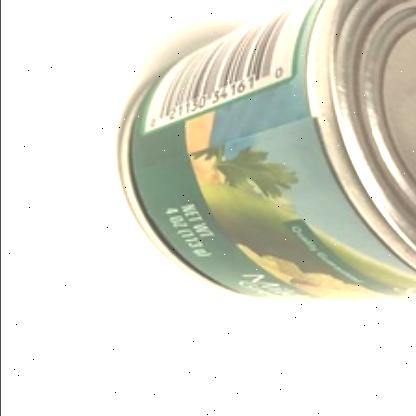Can: (116, 0, 416, 306)
